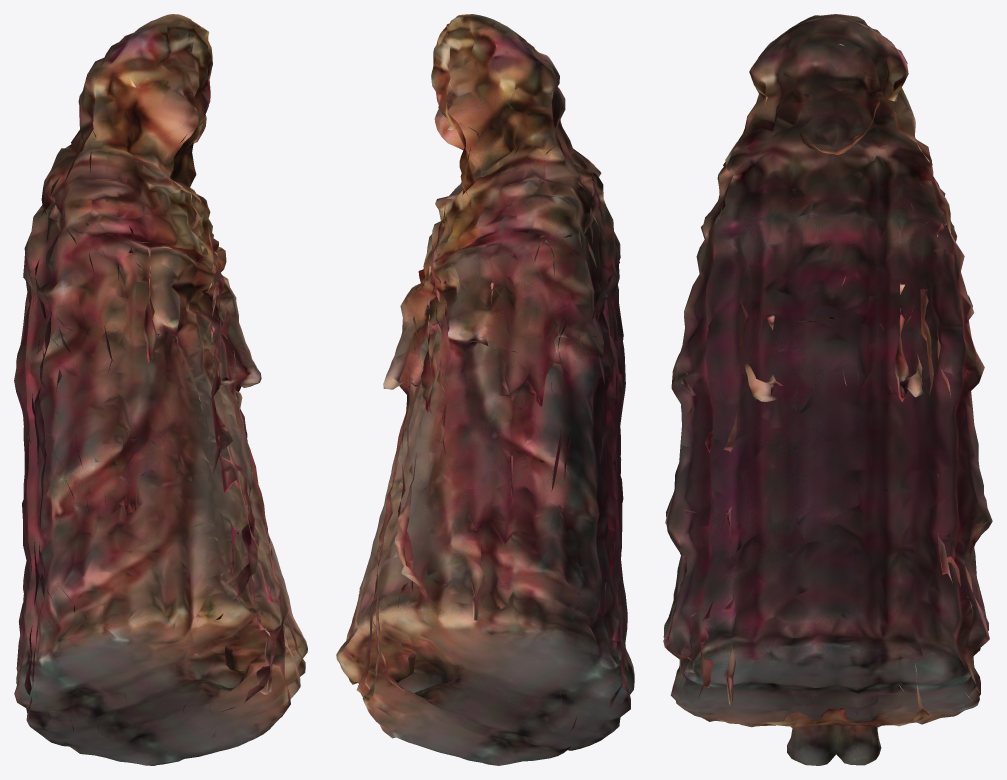
3 views of the same model, side by side, from view 1: azimuth 30°, elevation 25°; view 2: azimuth 150°, elevation 25°; view 3: azimuth 270°, elevation 25° (orthographic). The views are drawn at different scales.
Parts seen in each view (by area): view 1: geometry_0; view 2: geometry_0; view 3: geometry_0.
Boxes of the visible parts, x1,y1,x2,y2 form: geometry_0: (14, 14, 307, 765); geometry_0: (336, 14, 634, 765); geometry_0: (663, 14, 992, 765).
Size of the model in its own units: 0.6599 by 1.75 by 0.7315.
Materials: 1 (1 with a texture image).
